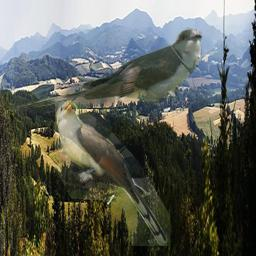Cuckoo: (55, 98, 170, 246), (14, 27, 202, 113)
